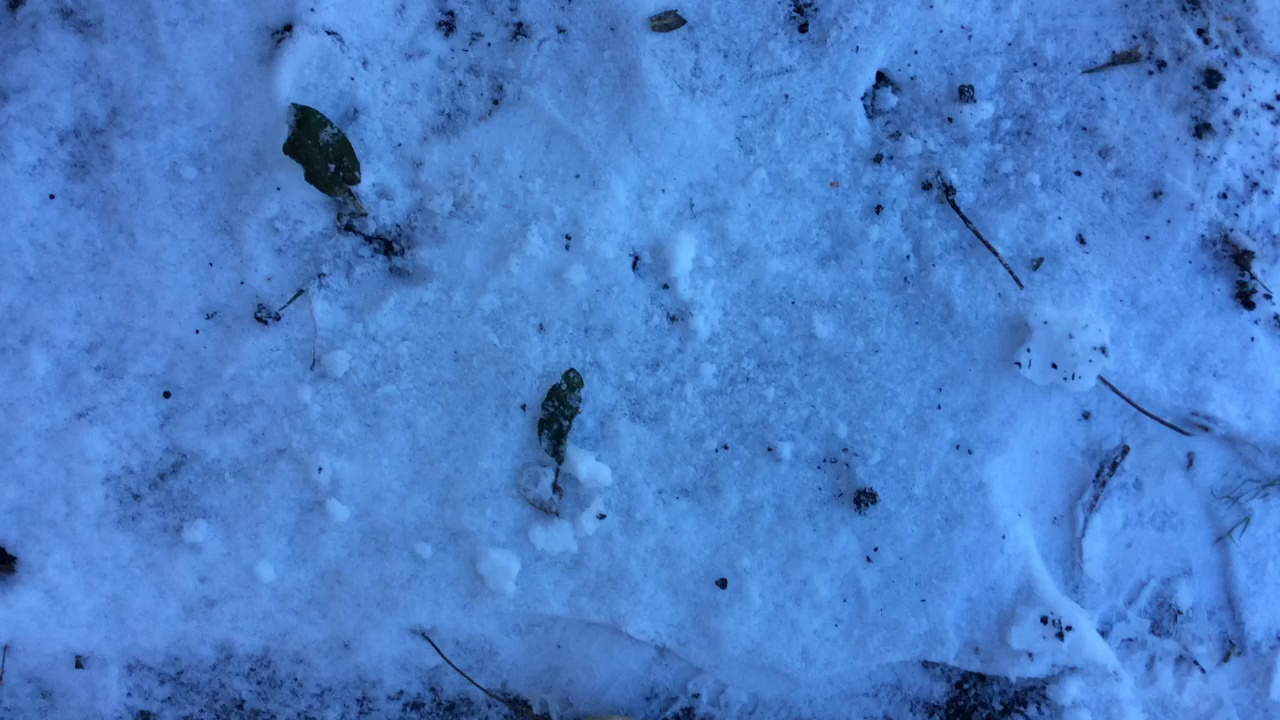root: (339, 203, 379, 246), (536, 477, 576, 512)
rumex: (275, 95, 384, 252), (530, 363, 593, 501)
